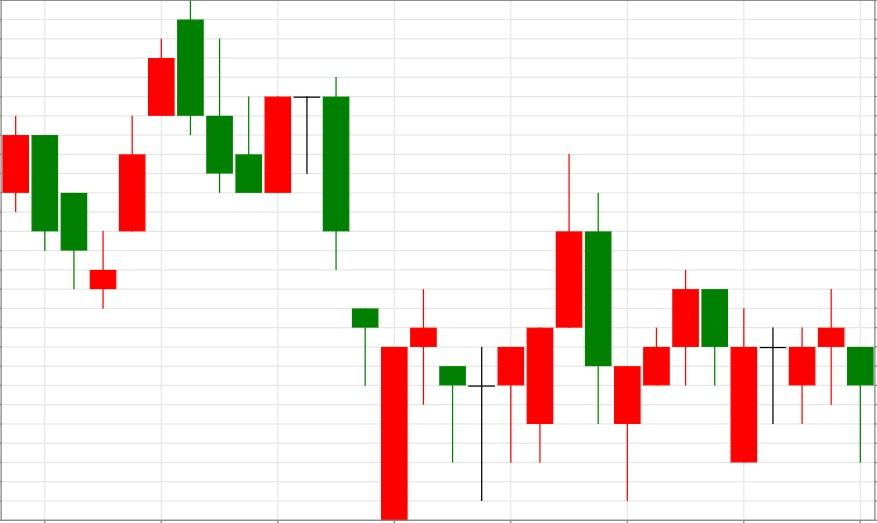bearish_engulfing_fall: (88, 0, 205, 309)
bullish_engulfing_rise: (177, 0, 293, 194)
three_white_soldiers_rise: (0, 38, 176, 308)
